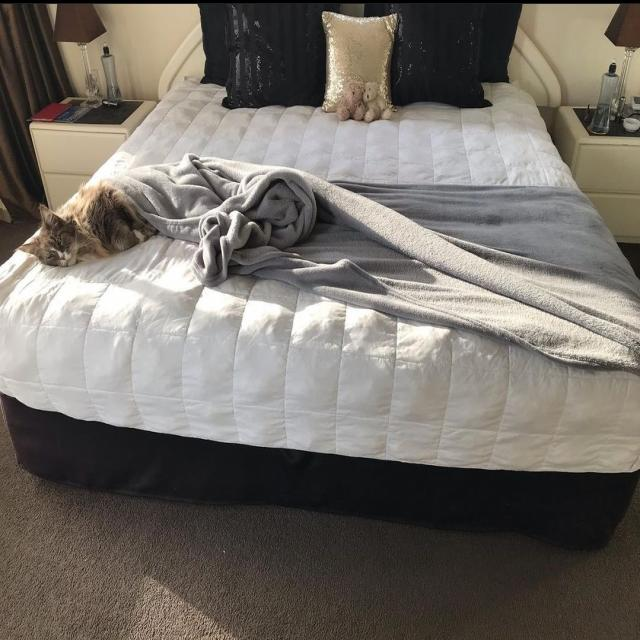bed: (15, 42, 577, 425)
